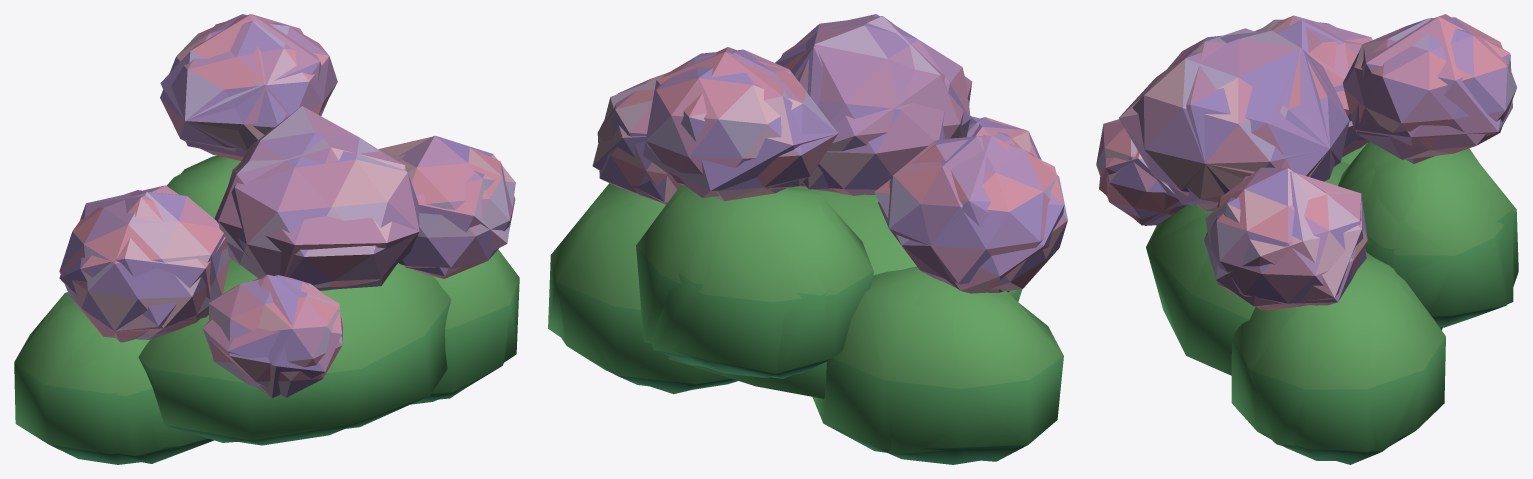
The model's file is hydrangea_pink.glb.
3 renders of one model, left to right at view 1: azimuth 30°, elevation 25°; view 2: azimuth 150°, elevation 25°; view 3: azimuth 270°, elevation 25°, orthographic. The views are drawn at different scales.
Parts seen in each view (by area): view 1: petal_pink_nl, body__far, body_nl; view 2: body__far, body_nl, petal_pink_nl; view 3: petal_pink_nl, body__far, body_nl.
Part boxes in pixels (bbox=[...]): petal_pink_nl: bbox=[59, 14, 515, 397]; body__far: bbox=[14, 14, 519, 463]; body_nl: bbox=[14, 156, 516, 464]; body__far: bbox=[548, 16, 1064, 461]; body_nl: bbox=[551, 183, 1063, 464]; petal_pink_nl: bbox=[597, 14, 1067, 291]; petal_pink_nl: bbox=[1096, 17, 1516, 309]; body__far: bbox=[1099, 14, 1513, 464]; body_nl: bbox=[1146, 141, 1518, 460].
Bounding box in the file's own units: 15.62 × 11.33 × 11.96.
